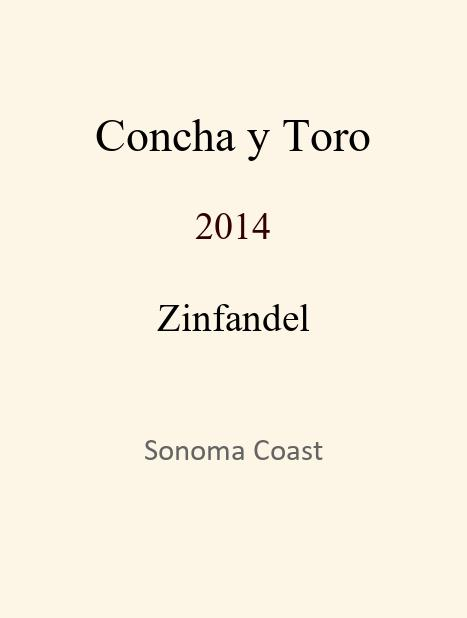brand: (95, 110, 371, 152)
region: (144, 436, 323, 456)
variety: (157, 296, 310, 323)
vintage: (195, 205, 271, 231)
